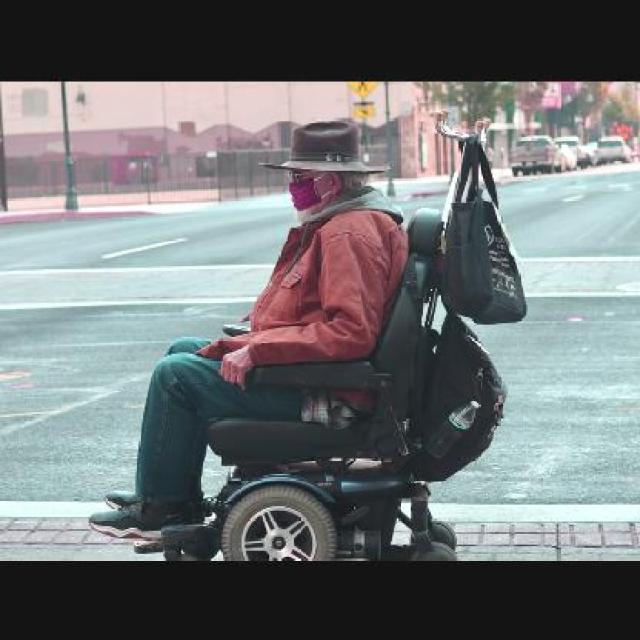wheelchairs: (133, 205, 503, 558)
